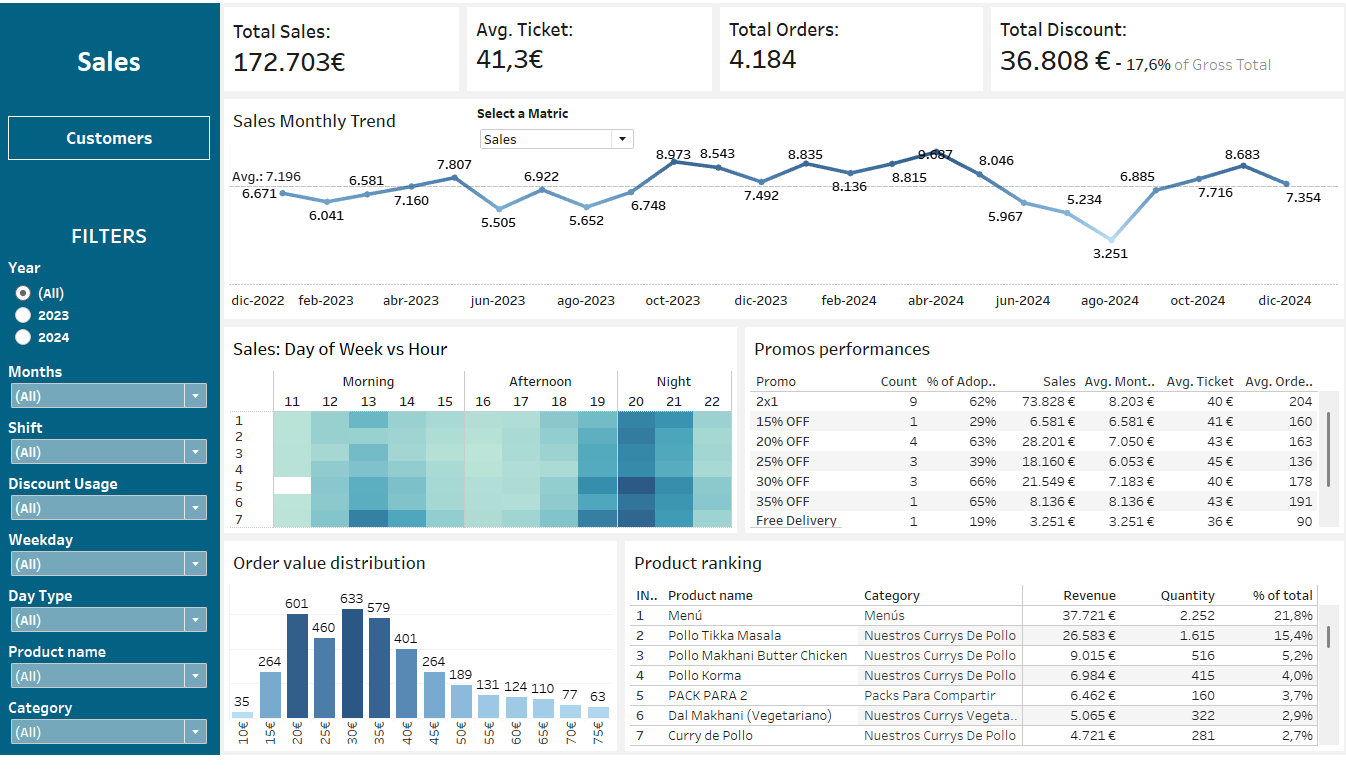

The dashboard page shown, as its layout file describes it:
{"tool":"tableau","page":{"name":"Sales Dashboard","canvas":[1366,768],"ordinal":1},"visuals":[{"type":"worksheet","title":"Total Sales","mark":"Automatic","box":[229.8,8,243,92]},{"type":"worksheet","title":"Avg. Ticket","mark":"Automatic","box":[472.9,8,253,92]},{"type":"worksheet","title":"Total Orders","mark":"Automatic","box":[725.9,8,271,92]},{"type":"worksheet","title":"Total Discount","mark":"Automatic","box":[996.9,8,361.1,92]},{"type":"text","box":[14,14,209.8,103]},{"type":"worksheet","title":"Sales Trend","mark":"Automatic","rows":["Calculation_2779283927046856704"],"cols":["order_date"],"box":[229.8,100,1128.2,228]},{"type":"parameter","param":"[Parameters].[Parameter 1]","box":[487,109,160,48]},{"type":"dashboard-object","box":[14,117,209.8,52]},{"type":"text","box":[14,169,209.8,89]},{"type":"filter","title":"Sales Trend","param":"[federated.16ij4cu1g5t8ux11aa9n81nwd3ul].[none:year:nk]","box":[14,258,209.8,104]},{"type":"worksheet","title":"Sales by Weekday/Shift","mark":"Automatic","rows":["weekday"],"cols":["shift","hour"],"box":[229.8,328,521.2,214]},{"type":"worksheet","title":"Promos performances","mark":"Automatic","rows":["promo"],"box":[751,328,607,214]},{"type":"filter","title":"Sales Trend","param":"[federated.16ij4cu1g5t8ux11aa9n81nwd3ul].[mn:order_date:ok]","box":[14,362,209.8,56]},{"type":"filter","title":"Order value distribution","param":"[federated.16ij4cu1g5t8ux11aa9n81nwd3ul].[none:shift:nk]","box":[14,418,209.8,56]},{"type":"filter","title":"Total Discount","param":"[federated.16ij4cu1g5t8ux11aa9n81nwd3ul].[none:discount_usage:nk]","box":[14,474,209.8,56]},{"type":"filter","title":"Sales Trend","param":"[federated.16ij4cu1g5t8ux11aa9n81nwd3ul].[none:weekday:ok]","box":[14,530,209.8,56]},{"type":"worksheet","title":"Order value distribution","mark":"Automatic","rows":["invoice_no"],"cols":["Total (bin)"],"box":[229.8,542,401.2,218]},{"type":"worksheet","title":"Product ranking","mark":"Automatic","rows":["Calculation_1529535028925022210","name","category"],"box":[631,542,727,218]},{"type":"filter","title":"Sales Trend","param":"[federated.16ij4cu1g5t8ux11aa9n81nwd3ul].[none:day_type:nk]","box":[14,586,209.8,56]},{"type":"filter","title":"Product ranking","param":"[federated.16ij4cu1g5t8ux11aa9n81nwd3ul].[none:name:nk]","box":[14,642,209.8,56]},{"type":"filter","title":"Product ranking","param":"[federated.16ij4cu1g5t8ux11aa9n81nwd3ul].[none:category:nk]","box":[14,698,209.8,56]}]}

Visuals, with their boxes in screenshot pixels (x1, y1, x2, y2), scaled from the page's 1366x768 canvas onto the 1346x770 screenshot:
"Total Sales" worksheet: bbox=[226, 8, 466, 100]
"Avg. Ticket" worksheet: bbox=[466, 8, 715, 100]
"Total Orders" worksheet: bbox=[715, 8, 982, 100]
"Total Discount" worksheet: bbox=[982, 8, 1338, 100]
text: bbox=[14, 14, 221, 117]
"Sales Trend" worksheet: bbox=[226, 100, 1338, 329]
parameter: bbox=[480, 109, 638, 157]
dashboard-object: bbox=[14, 117, 221, 169]
text: bbox=[14, 169, 221, 259]
"Sales Trend" filter: bbox=[14, 259, 221, 363]
"Sales by Weekday/Shift" worksheet: bbox=[226, 329, 740, 543]
"Promos performances" worksheet: bbox=[740, 329, 1338, 543]
"Sales Trend" filter: bbox=[14, 363, 221, 419]
"Order value distribution" filter: bbox=[14, 419, 221, 475]
"Total Discount" filter: bbox=[14, 475, 221, 531]
"Sales Trend" filter: bbox=[14, 531, 221, 588]
"Order value distribution" worksheet: bbox=[226, 543, 622, 762]
"Product ranking" worksheet: bbox=[622, 543, 1338, 762]
"Sales Trend" filter: bbox=[14, 588, 221, 644]
"Product ranking" filter: bbox=[14, 644, 221, 700]
"Product ranking" filter: bbox=[14, 700, 221, 756]
